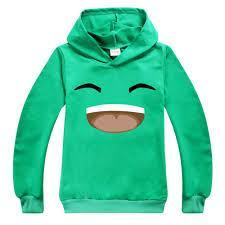sweater: (17, 10, 213, 214)
